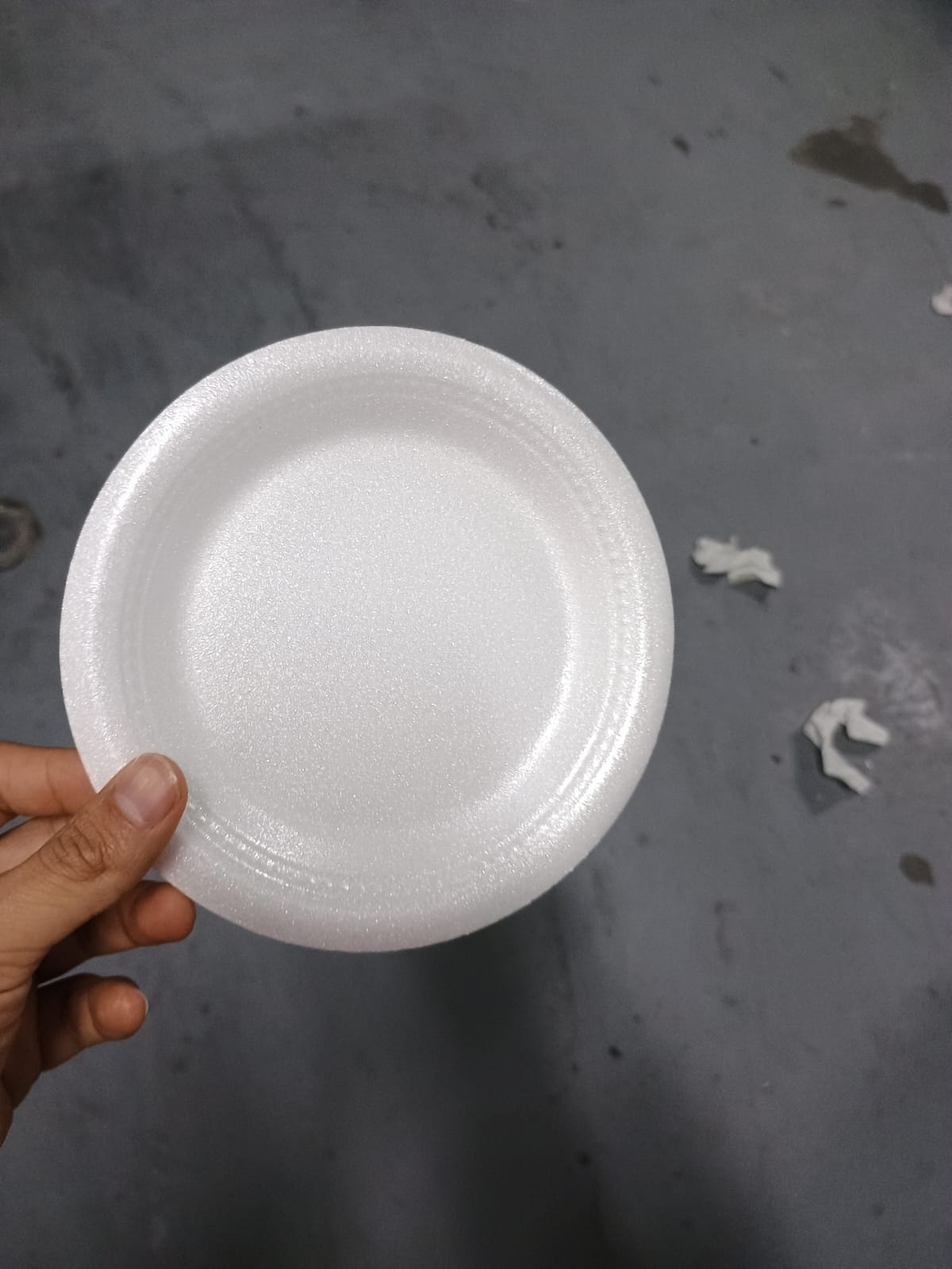Ordinario: (55, 326, 678, 952)
